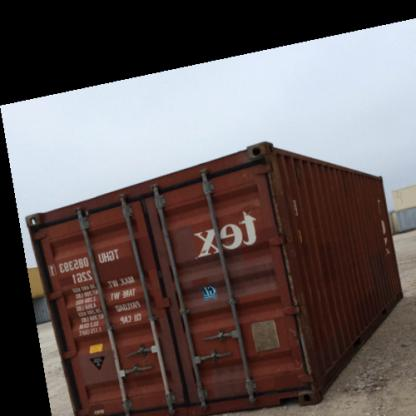Damage: (262, 156, 290, 232), (269, 245, 305, 304), (196, 369, 256, 404), (292, 314, 320, 377), (240, 169, 254, 182)
